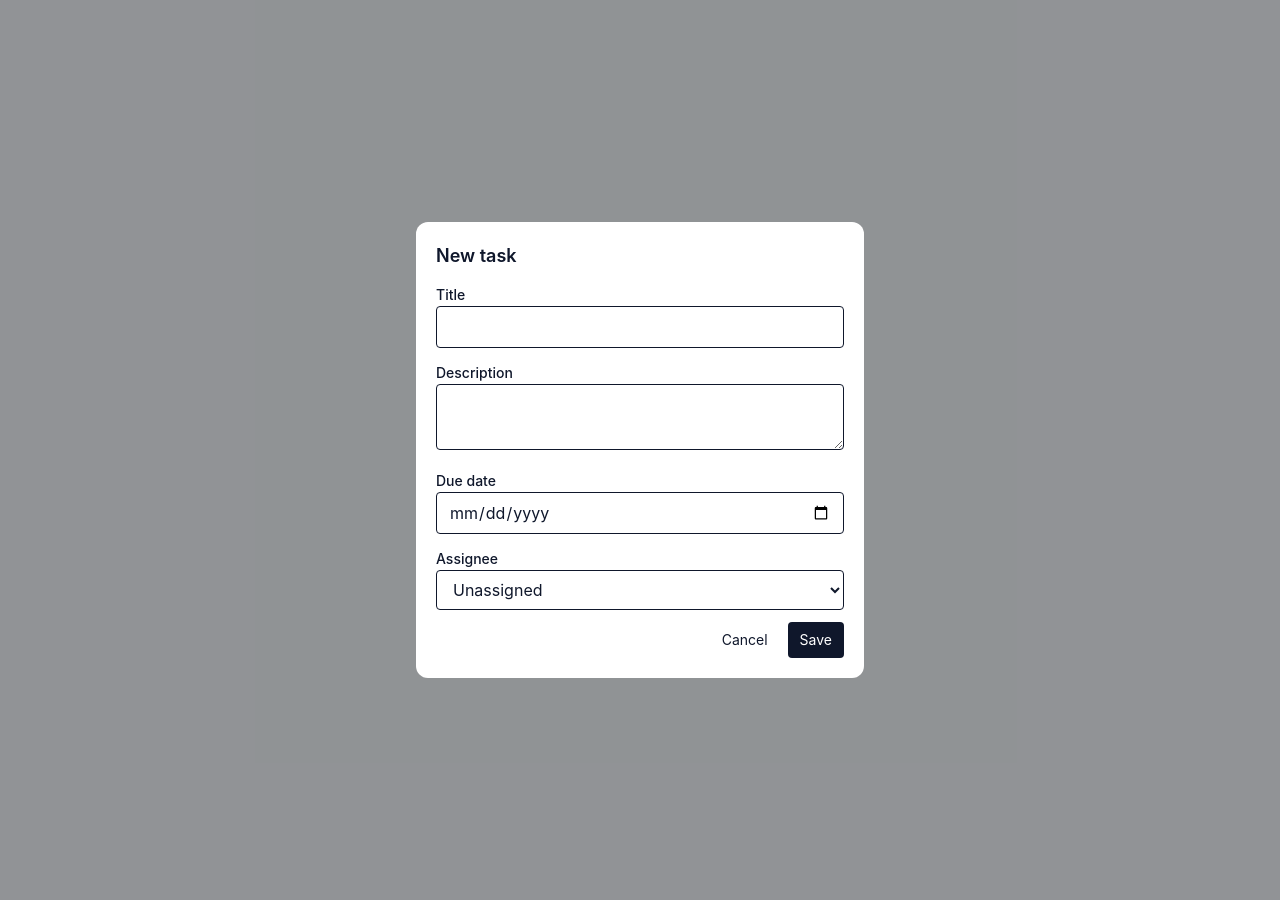
it: TaskForm › blocks submit when title is empty
Click the button "Save". click: click(816, 640)
box: [788,622,844,658]
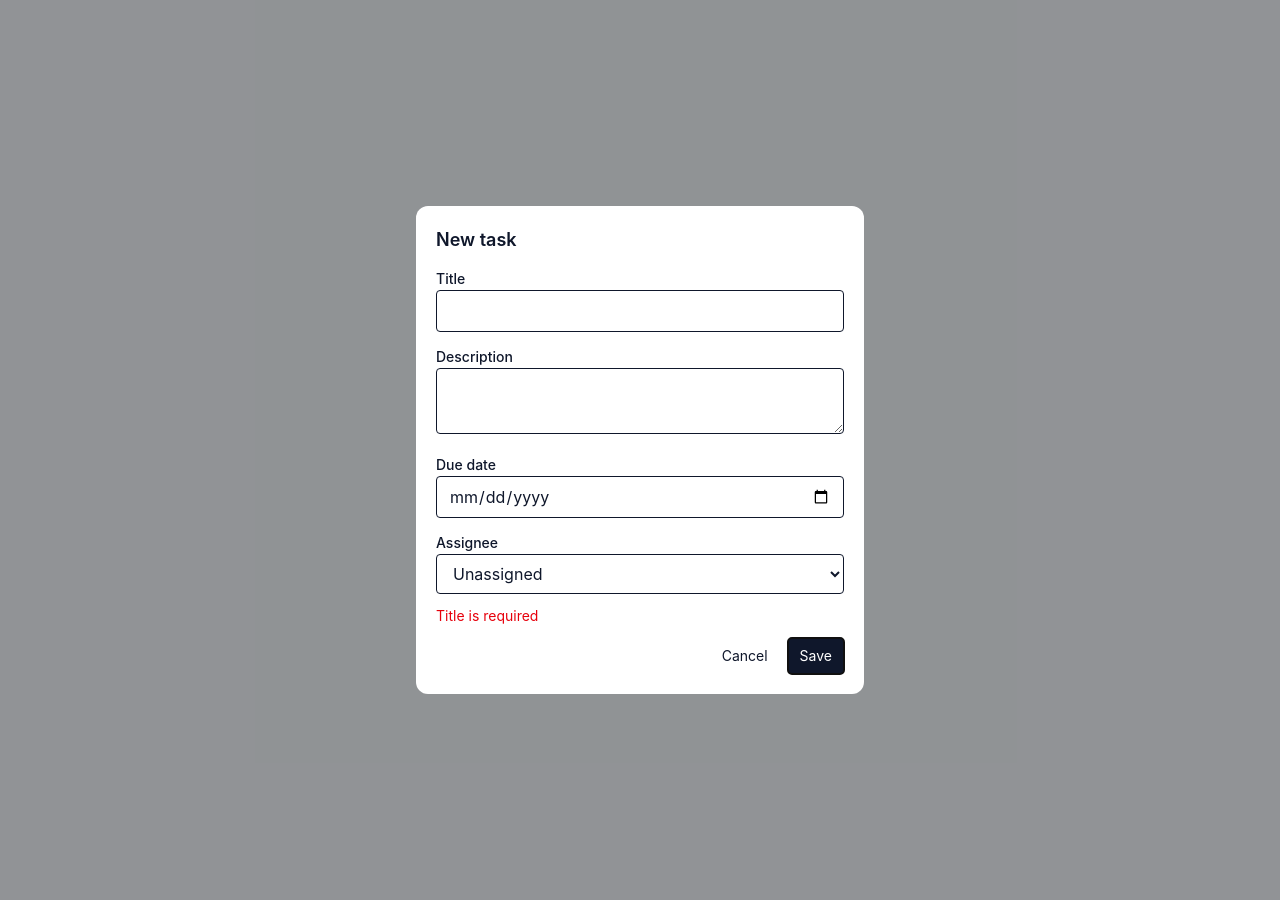
Result: the text "Title is required" is shown at [436,607,538,624]
